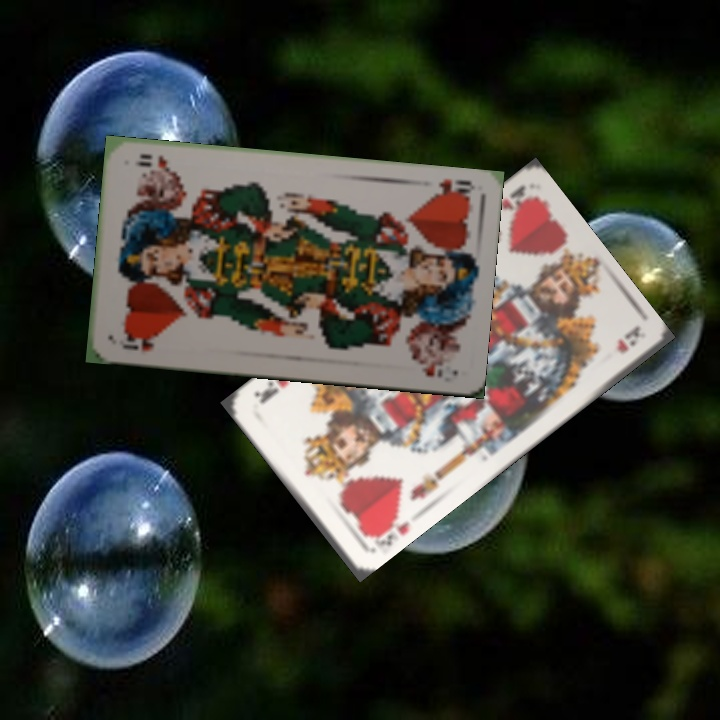HK: (359, 506, 412, 556), (496, 181, 534, 219)
HO: (425, 174, 477, 202), (115, 330, 156, 354)
